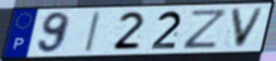2: (111, 10, 148, 51), (150, 10, 183, 51)
9: (37, 10, 73, 56)
I: (82, 10, 103, 54)
V: (229, 6, 267, 50)
Z: (181, 8, 230, 51)
